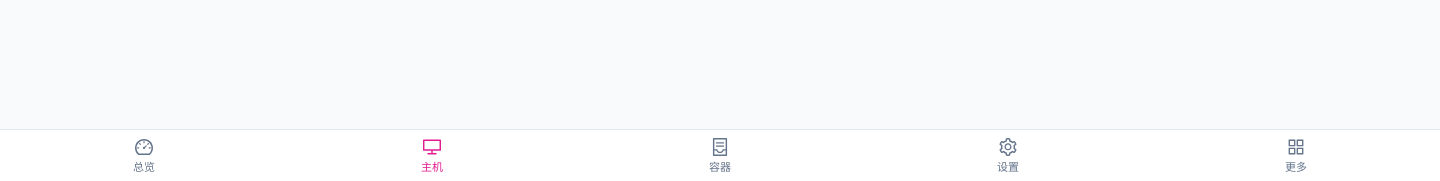
Test: MobileTabBar › 「更多」收敛其余目的地（固定四槽不在列、父级名做前缀）
Click the link "更多" at (1296, 156), box [1285,138,1307,174]
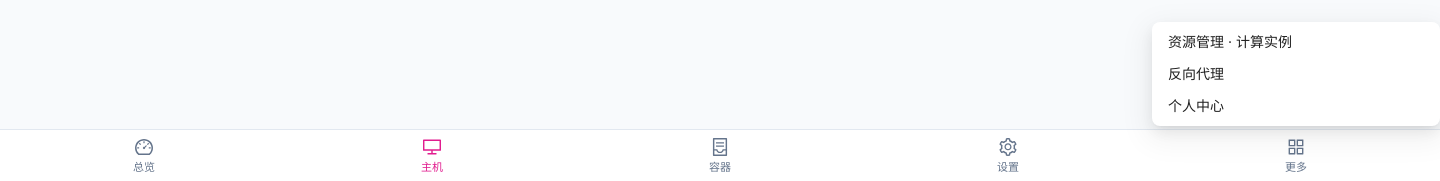
Result: the text "资源管理 · 计算实例" is shown at [1168,33,1292,50]
Result: the text "反向代理" is shown at [1168,65,1224,82]
Result: the text "个人中心" is shown at [1168,97,1224,114]
